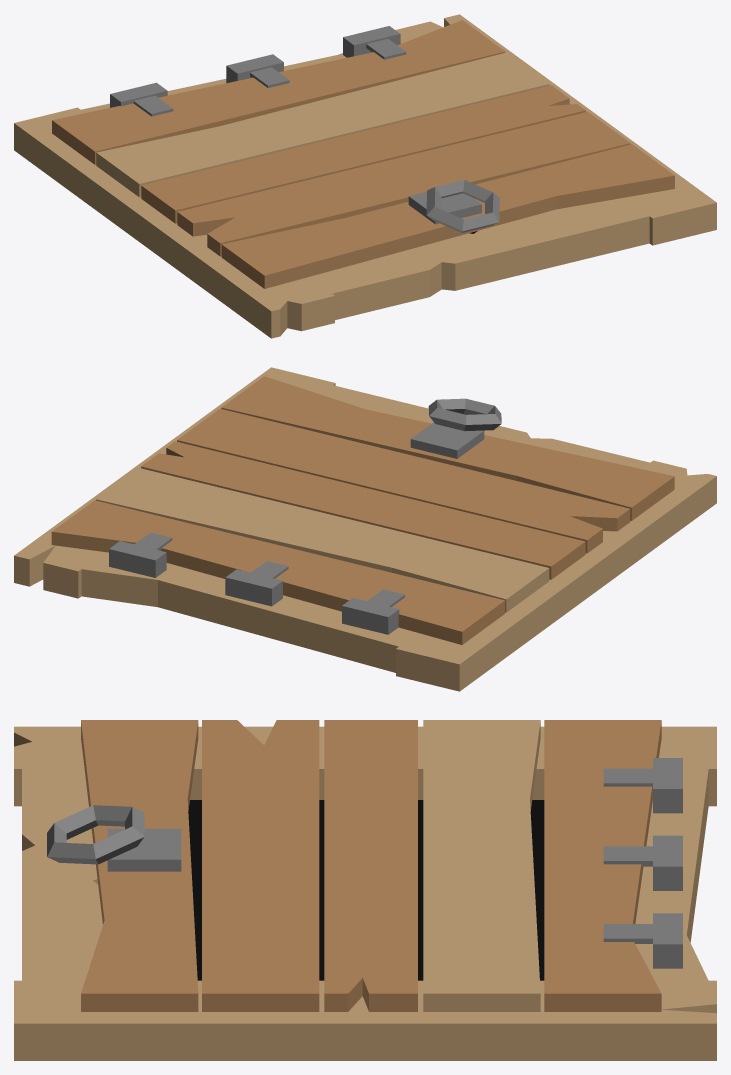
File: trapdoor.fbx
3 renders of one model, top to bottom at view 1: azimuth 30°, elevation 25°; view 2: azimuth 150°, elevation 25°; view 3: azimuth 270°, elevation 25°, orthographic. The views are drawn at different scales.
Parts seen in each view (by area): view 1: trapdoor; view 2: trapdoor; view 3: trapdoor.
Boxes of the visible parts, bbox=[...] form: trapdoor: bbox=[14, 14, 716, 338]; trapdoor: bbox=[14, 367, 716, 691]; trapdoor: bbox=[14, 720, 716, 1060].
Bounding box in the file's own units: 200 × 29.84 × 200.
